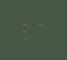seven: (33, 19, 46, 40)
three: (19, 19, 32, 39)
